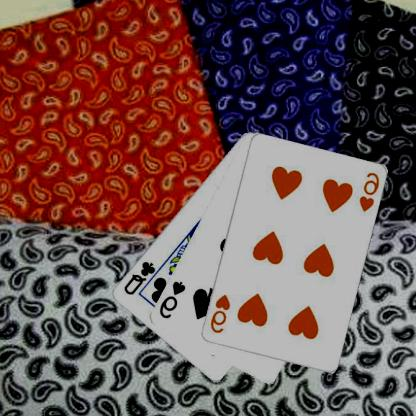6H: (358, 169, 382, 213), (208, 292, 232, 334)
6S: (158, 279, 188, 320)
QC: (122, 258, 158, 297)
